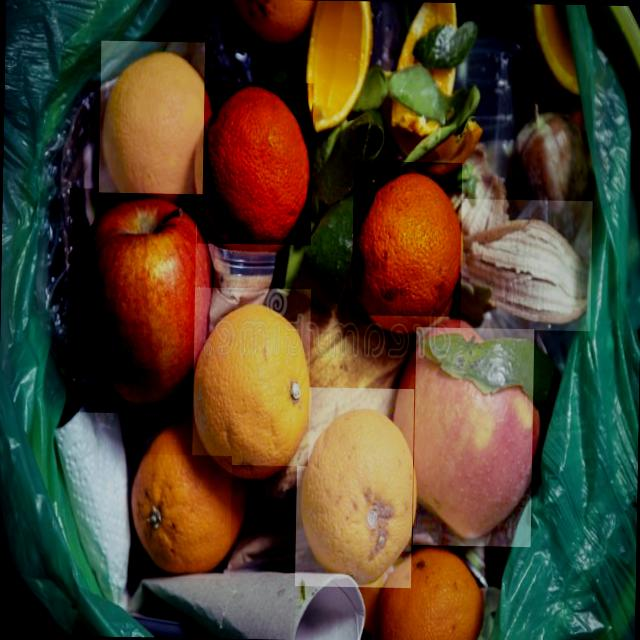Food waste: (66, 188, 196, 414), (412, 326, 534, 546), (294, 387, 413, 588), (191, 287, 311, 466), (196, 81, 313, 245), (460, 198, 592, 331), (351, 160, 462, 316), (98, 40, 205, 194), (118, 454, 232, 578)
